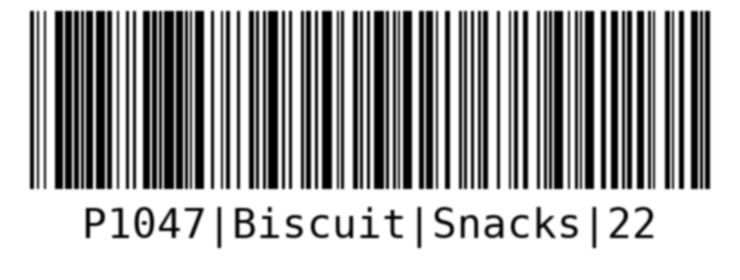milk: (24, 6, 718, 259)
